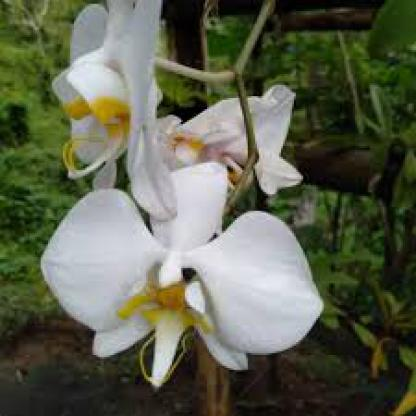ANGGREK: (40, 10, 352, 386)
